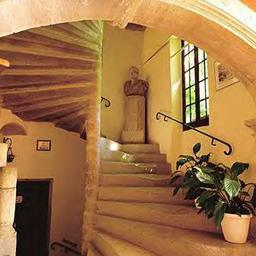Escaleras: (94, 19, 253, 255)
Matera: (197, 159, 251, 245), (179, 149, 217, 213)
Otro Obstaculo: (124, 62, 150, 142)
